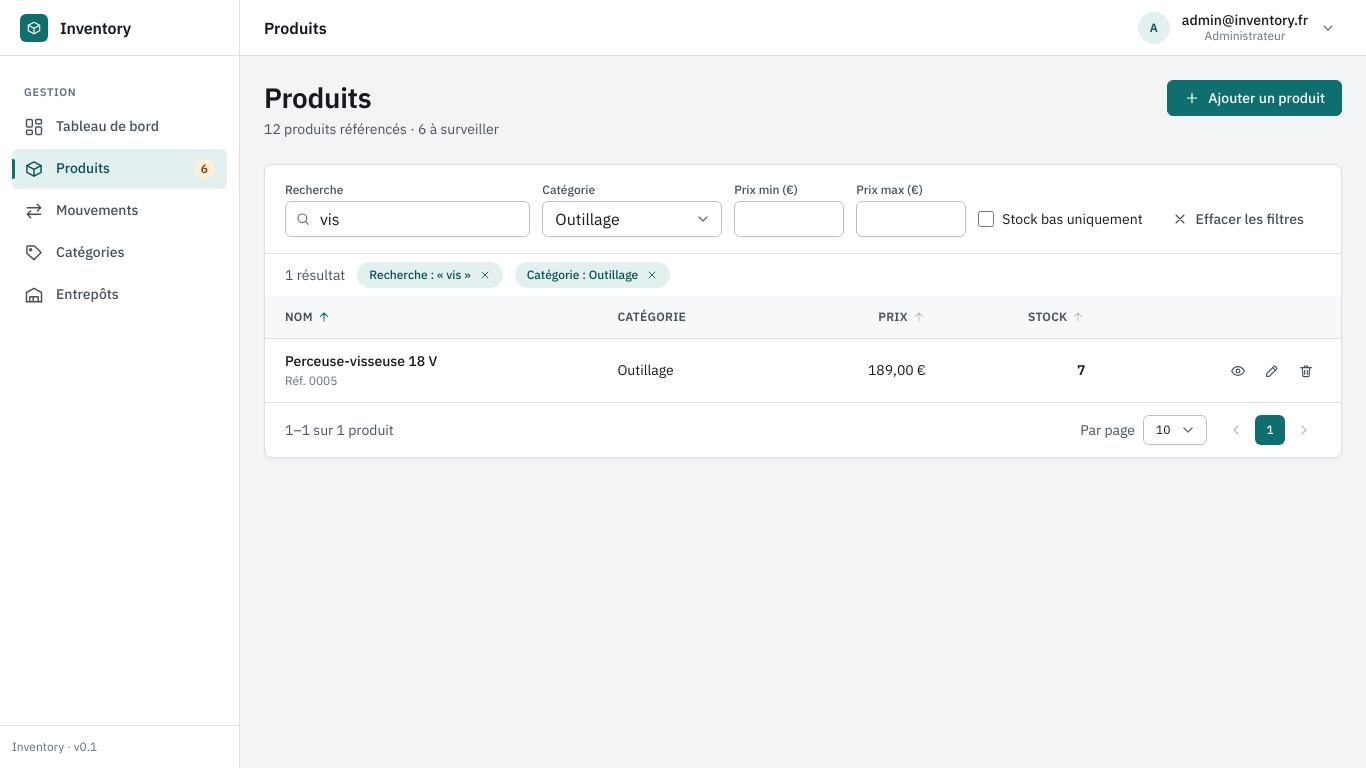
Test: ProductsPage › URL state › follows a URL change made elsewhere, such as the navigation link
Check: the heading "Produits" is shown, box [264,79,372,116]
Check: the search field labelled "Recherche" holds "vis", box [285,201,530,237]
Step 1. Click the link "Produits 6" → (120, 168), box [12,148,227,188]
(page scrolled)
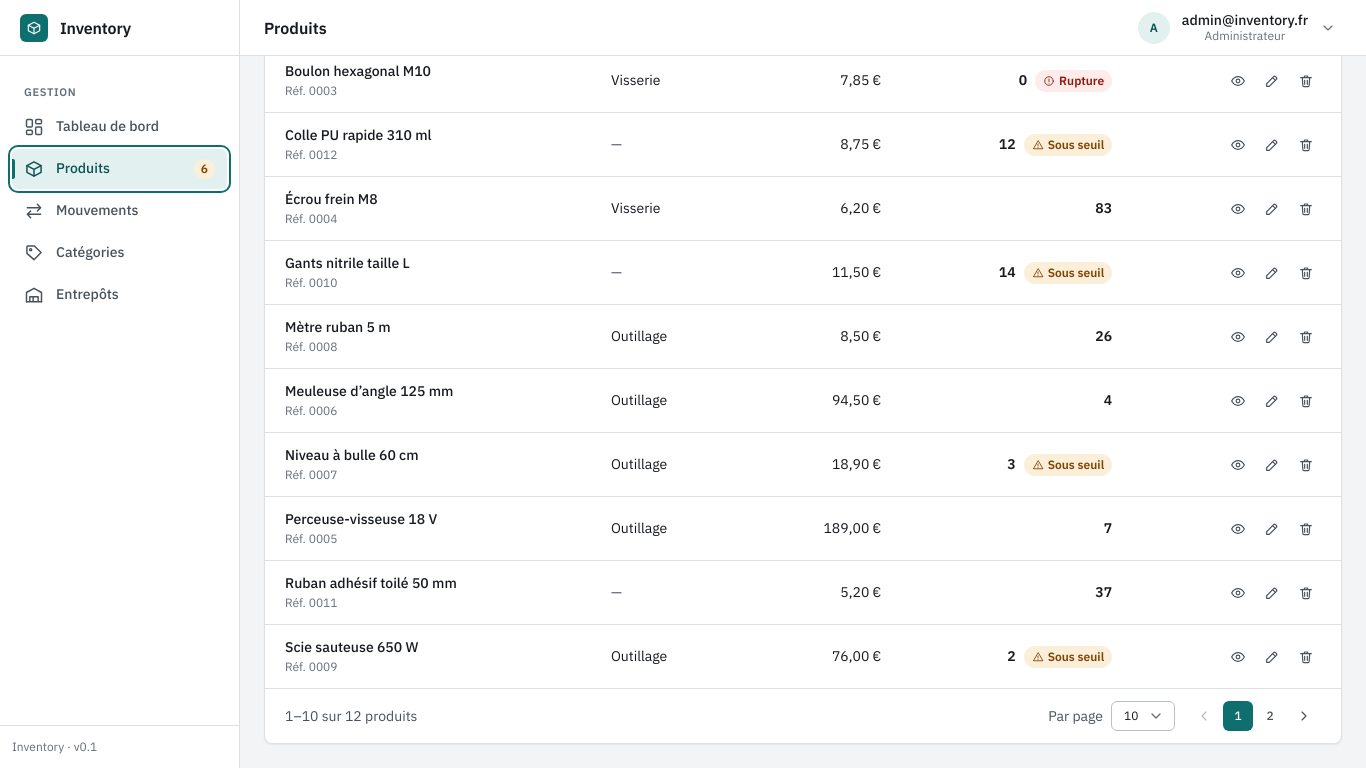
Check: the text "1–10 sur 12 produits" is shown, box [285,706,417,724]
